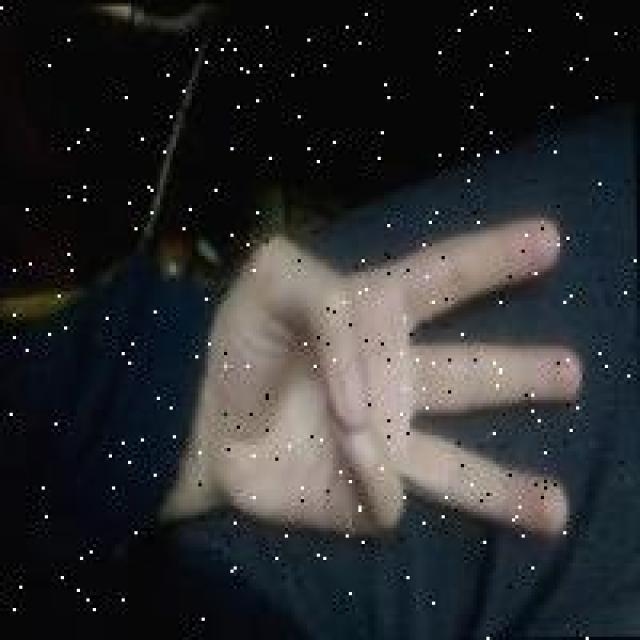W: (208, 48, 547, 426)
